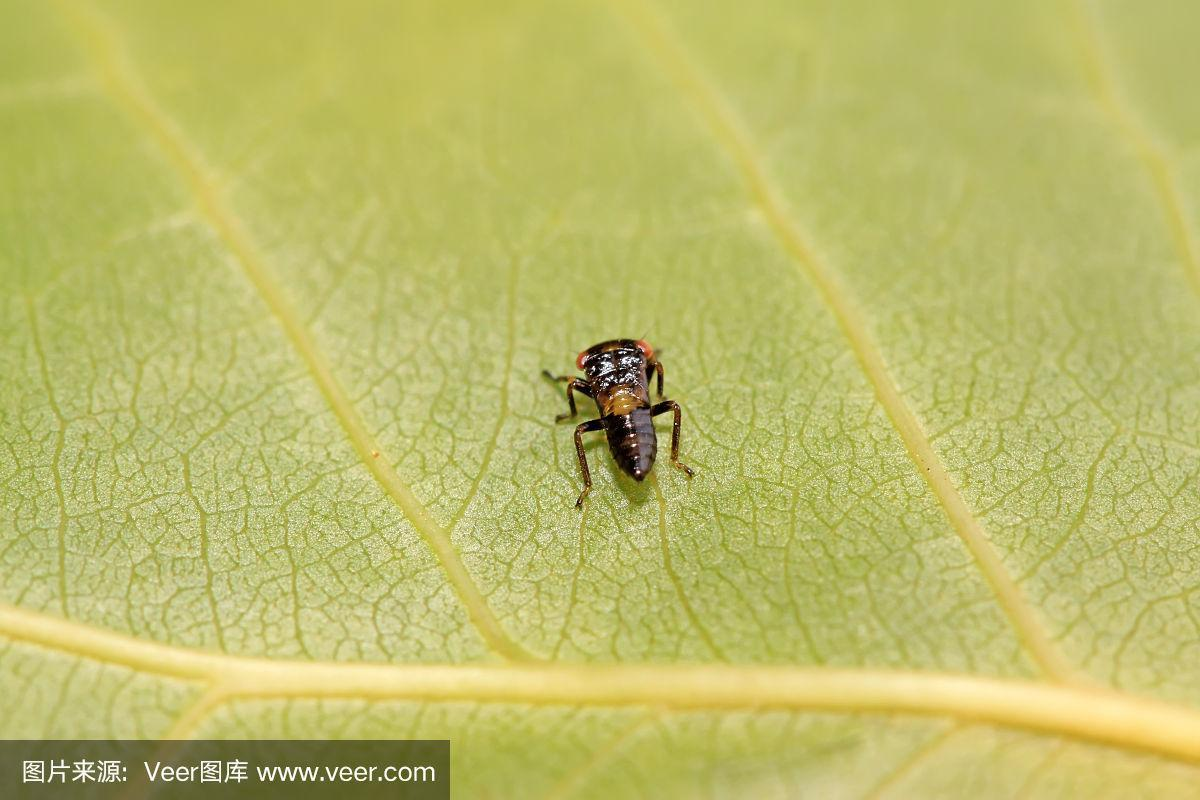Cicadellidae: (542, 338, 690, 506)
